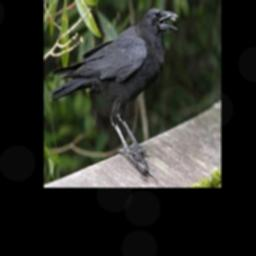Crow: (49, 7, 179, 165)
